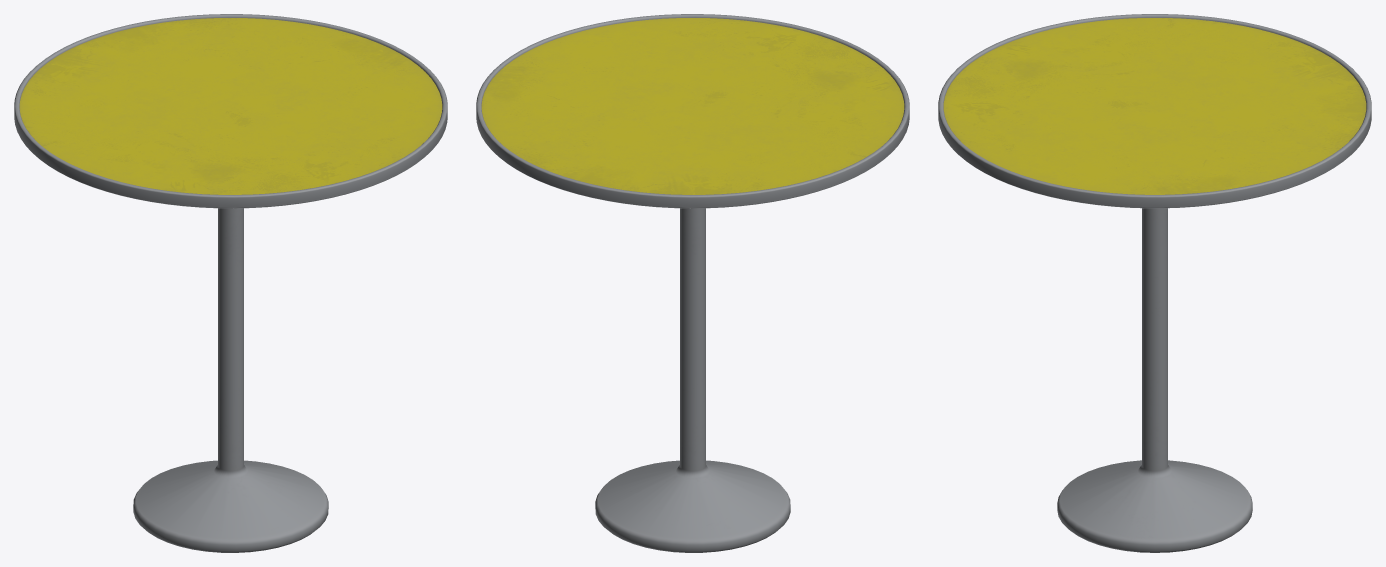
Rendered from SM_Table_01.fbx.
3 views of the same model, side by side, from view 1: azimuth 30°, elevation 25°; view 2: azimuth 150°, elevation 25°; view 3: azimuth 270°, elevation 25° (orthographic).
Visible parts, largest first — view 1: SM_Table_01_LOD0; view 2: SM_Table_01_LOD0; view 3: SM_Table_01_LOD0.
Part boxes in pixels (x1,y1,x2,y2): SM_Table_01_LOD0: [14, 14, 447, 552]; SM_Table_01_LOD0: [476, 14, 909, 552]; SM_Table_01_LOD0: [938, 14, 1371, 552].
Size of the model in its own units: 105 by 105 by 109.
1 material, 1 textured.
